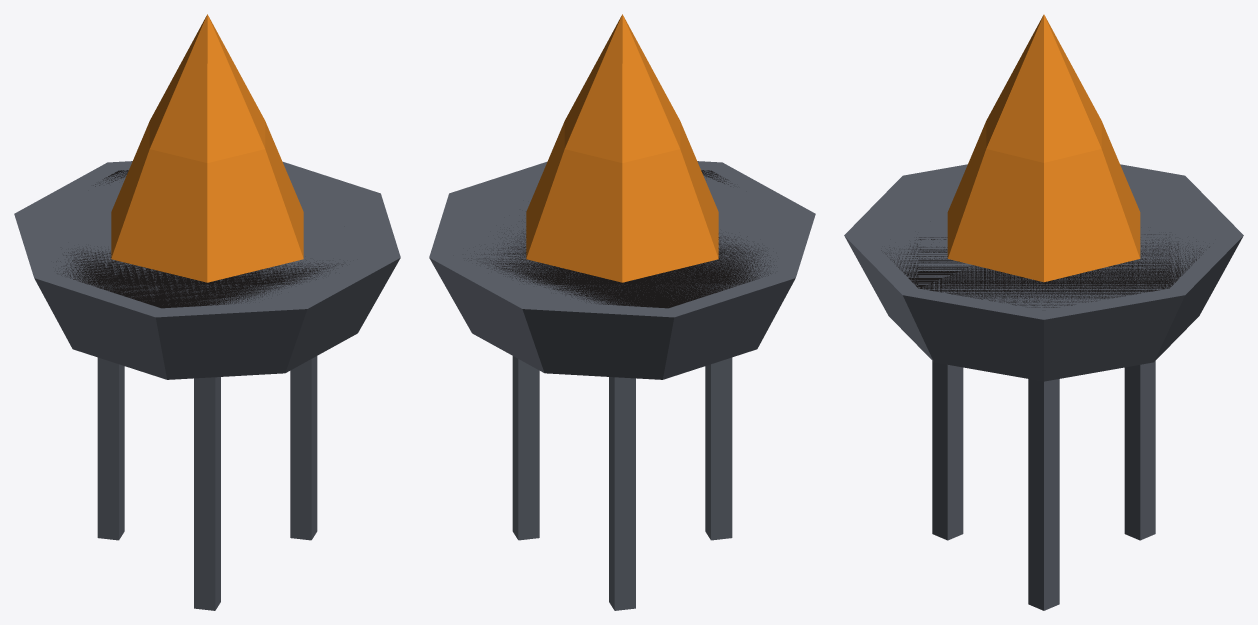
File: brazier.fbx
3 renders of one model, left to right at view 1: azimuth 30°, elevation 25°; view 2: azimuth 150°, elevation 25°; view 3: azimuth 270°, elevation 25°, orthographic.
Parts seen in each view (by area): view 1: brazier; view 2: brazier; view 3: brazier.
Boxes of the visible parts, x1,y1,x2,y2 form: brazier: (14, 14, 400, 610); brazier: (429, 14, 815, 610); brazier: (844, 14, 1243, 610).
Bounding box in the file's own units: 1.8 × 2.7 × 1.8.
Materials: 1 (1 with a texture image).
